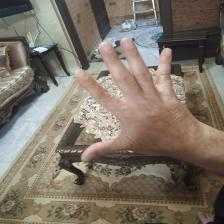five: (72, 38, 201, 164)
